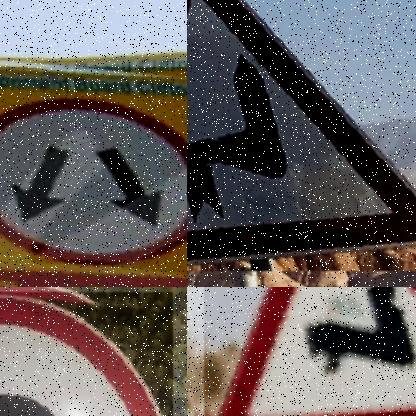No left turn: (0, 292, 166, 416)
Road Divides: (0, 70, 187, 287)
Zigzag Road Ahead: (187, 0, 416, 264), (215, 287, 416, 416)
